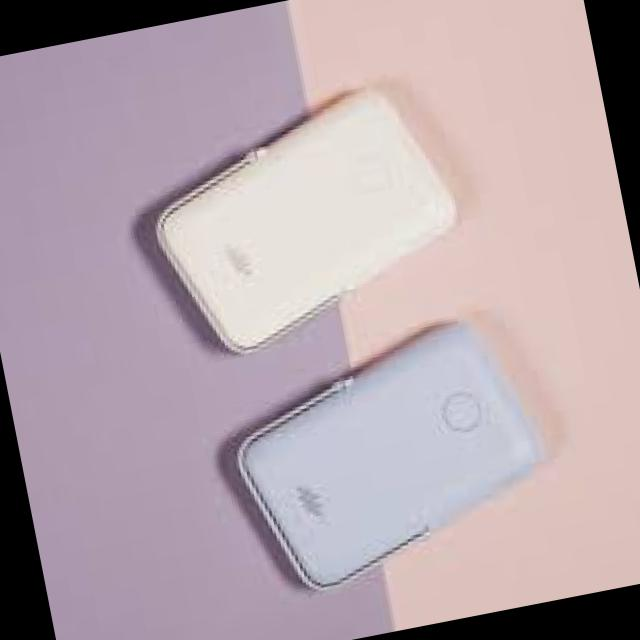portable-charger: (130, 66, 481, 368), (212, 306, 561, 607)
